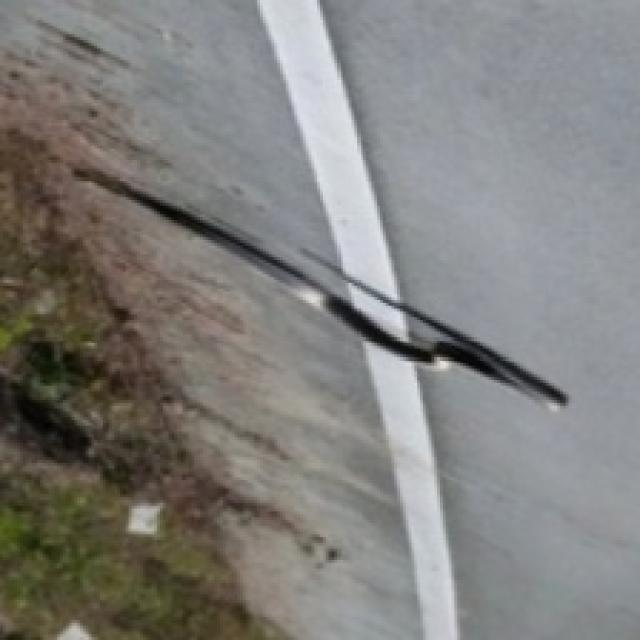king cobra: (75, 171, 568, 404)
